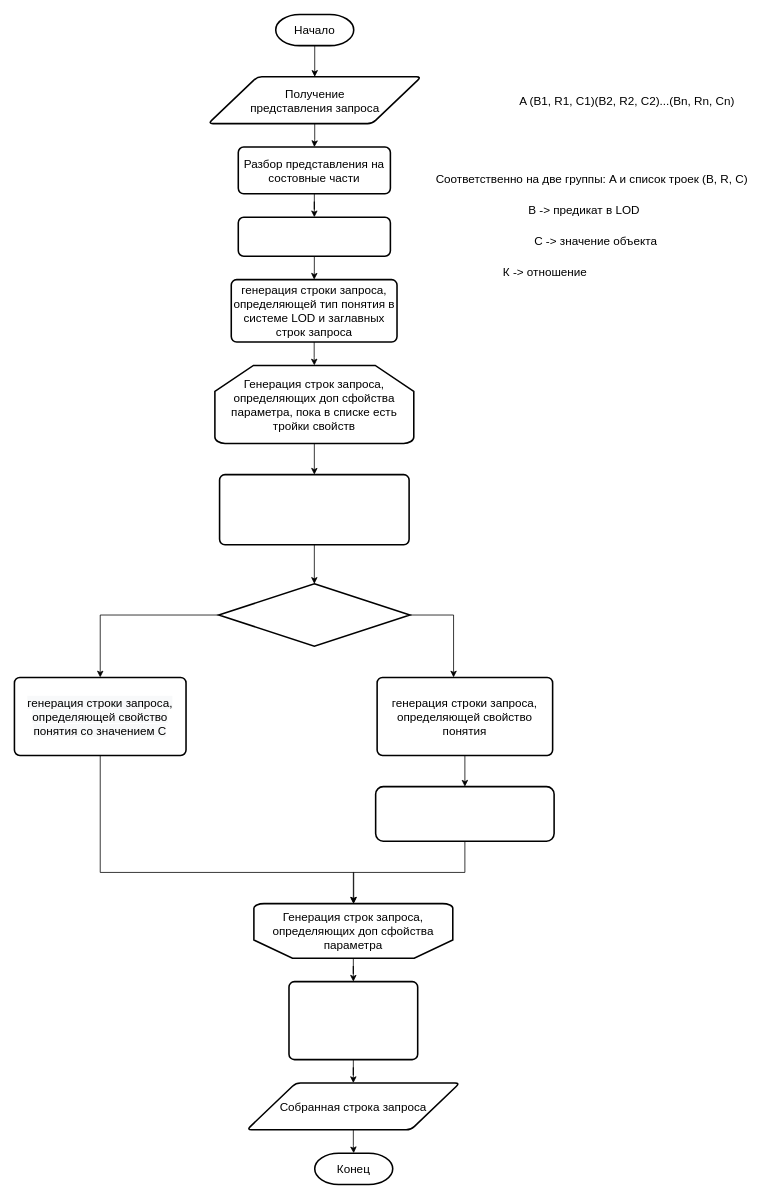
The diagram is 768 pixels wide and 1198 high, and some of its shapes have lost their labels. Here are the shapes that lost their labels. From the top down, the centre of each, then its label:
At pixel 314 236: "перевод понятия A на английский язык".
At pixel 314 509: "перевод на английский язык предиката B, и определение соответсвующего типа в LOD".
At pixel 314 615: "Отношение R является равенством?".
At pixel 464 813: "Генерация строки FILTER ограничивающей значение свойства значением C".
At pixel 353 1020: "Генерация закрывающей строки запроса".
